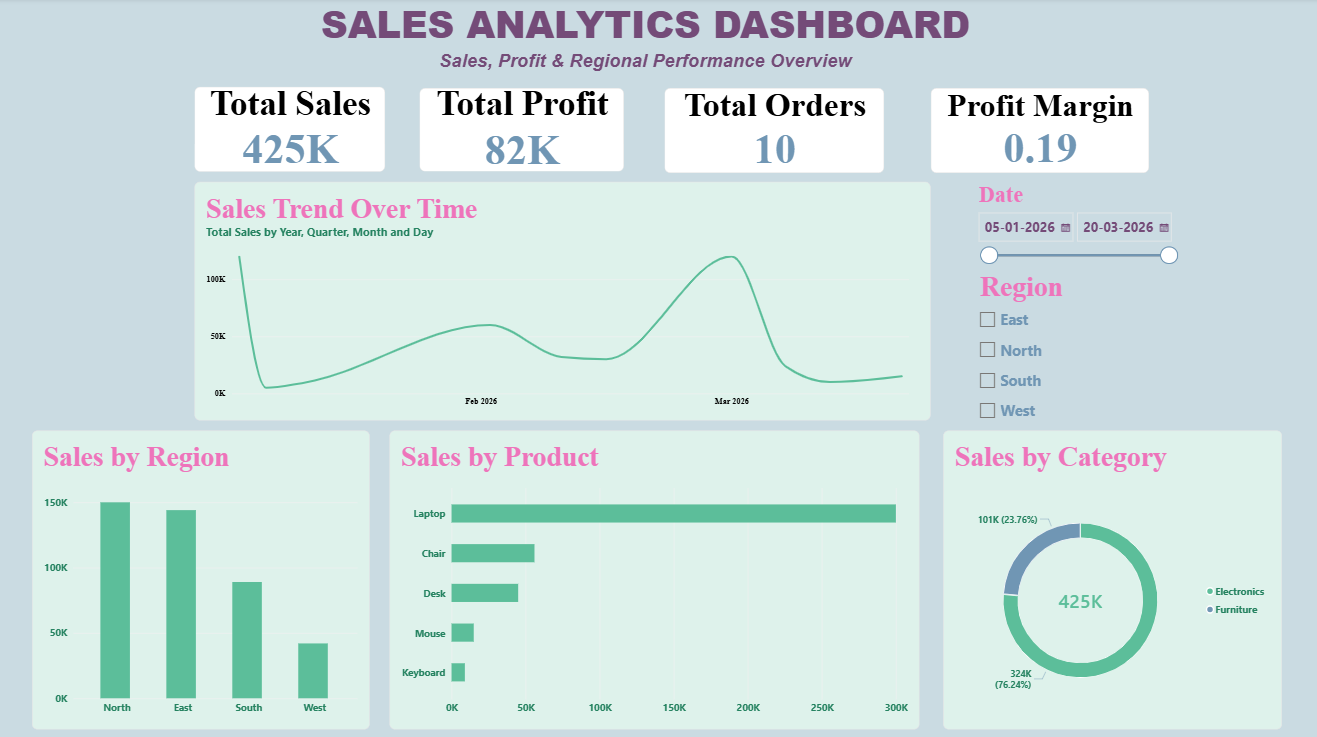

The page's visual inventory and layout, read from the dashboard file:
{"tool":"powerbi","page":{"name":"Page 1","canvas":[1920,1080],"ordinal":0},"visuals":[{"type":"textbox","box":[236.7,0,1418.2,168.8],"z":0},{"type":"cardVisual","fields":{"Data":["sales.Total Sales"]},"box":[154.4,127.6,314.9,150.3],"z":1},{"type":"cardVisual","fields":{"Data":["sales.Total Profit"]},"box":[590.7,127.6,308.7,150.3],"z":2},{"type":"cardVisual","fields":{"Data":["sales.Total Orders"]},"box":[1039.5,135.8,319,135.8],"z":3},{"type":"cardVisual","fields":{"Data":["sales.Profit Margin"]},"box":[1455.2,127.6,317,150.3],"z":4},{"type":"lineChart","title":"Sales Trend Over Time","fields":{"Category":["sales.Date.Variation.Date Hierarchy.Year","sales.Date.Variation.Date Hierarchy.Quarter","sales.Date.Variation.Date Hierarchy.Month","sales.Date.Variation.Date Hierarchy.Day"],"Y":["sales.Total Sales"]},"box":[292.3,298.5,1066.2,366.4],"z":5},{"type":"slicer","fields":{"Values":["sales.Date"]},"box":[1463.5,298.5,300,300],"z":6},{"type":"slicer","fields":{"Values":["sales.Region"]},"box":[1463.5,430.2,300,300],"z":7},{"type":"clusteredColumnChart","fields":{"Category":["sales.Region"],"Y":["sales.Total Sales"]},"box":[142,693.7,448.7,387],"z":8},{"type":"clusteredBarChart","fields":{"Category":["sales.Product"],"Y":["sales.Total Sales"]},"box":[591,694,767,386],"z":9},{"type":"donutChart","fields":{"Category":["sales.Category"],"Y":["sales.Total Sales"]},"box":[1358.5,693.7,473.4,387],"z":10}]}

Visuals, with their boxes in screenshot pixels (x1, y1, x2, y2), scaled from the page's 1920x1080 canvas onto the 1317x737 screenshot:
textbox: (left=162, top=0, right=1135, bottom=115)
cardVisual - sales.Total Sales: (left=106, top=87, right=322, bottom=190)
cardVisual - sales.Total Profit: (left=405, top=87, right=617, bottom=190)
cardVisual - sales.Total Orders: (left=713, top=93, right=932, bottom=185)
cardVisual - sales.Profit Margin: (left=998, top=87, right=1216, bottom=190)
"Sales Trend Over Time" lineChart: (left=200, top=204, right=932, bottom=454)
slicer - sales.Date: (left=1004, top=204, right=1210, bottom=408)
slicer - sales.Region: (left=1004, top=294, right=1210, bottom=498)
clusteredColumnChart - sales.Region x sales.Total Sales: (left=97, top=473, right=405, bottom=736)
clusteredBarChart - sales.Product x sales.Total Sales: (left=405, top=474, right=932, bottom=736)
donutChart - sales.Category x sales.Total Sales: (left=932, top=473, right=1257, bottom=736)
